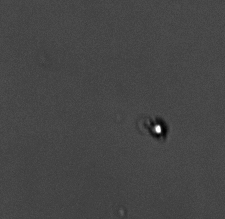Living Cell: (147, 118, 168, 138)
